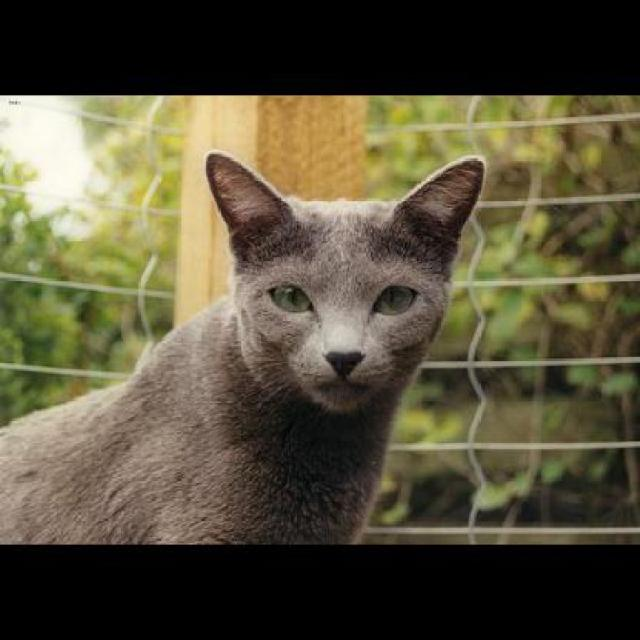unauthorized: (0, 148, 486, 544)
